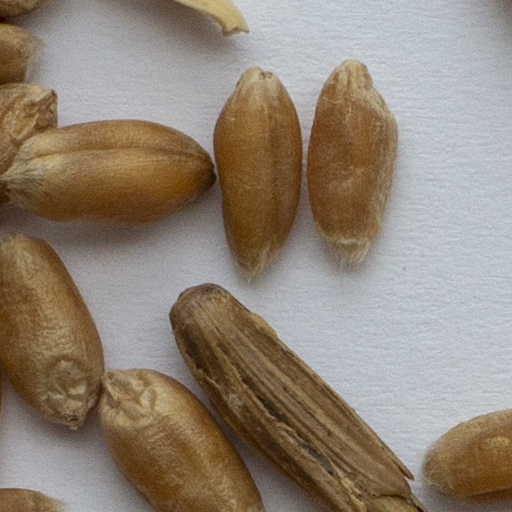Peel-poly: (169, 286, 423, 511), (169, 0, 245, 37)
